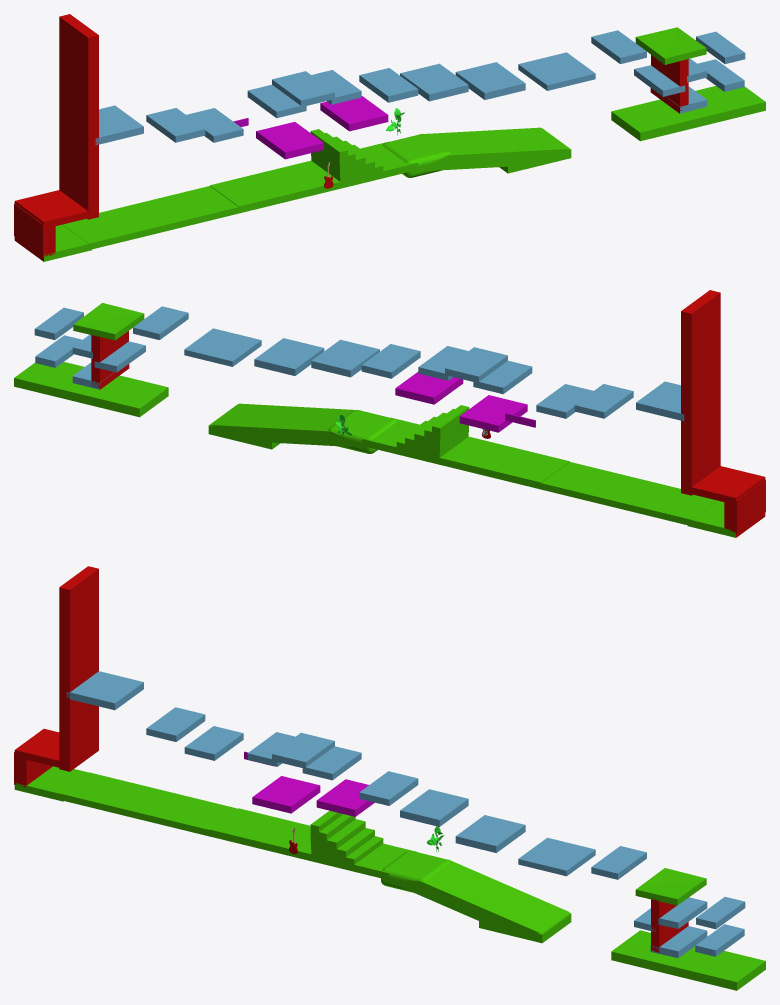
Rendered from KDstage2.obj.
The picture shows the model from 3 angles, top to bottom: view 1: azimuth 30°, elevation 25°; view 2: azimuth 150°, elevation 25°; view 3: azimuth 330°, elevation 25°; orthographic projection.
Size of the model in its own units: 2873 by 904 by 273.
